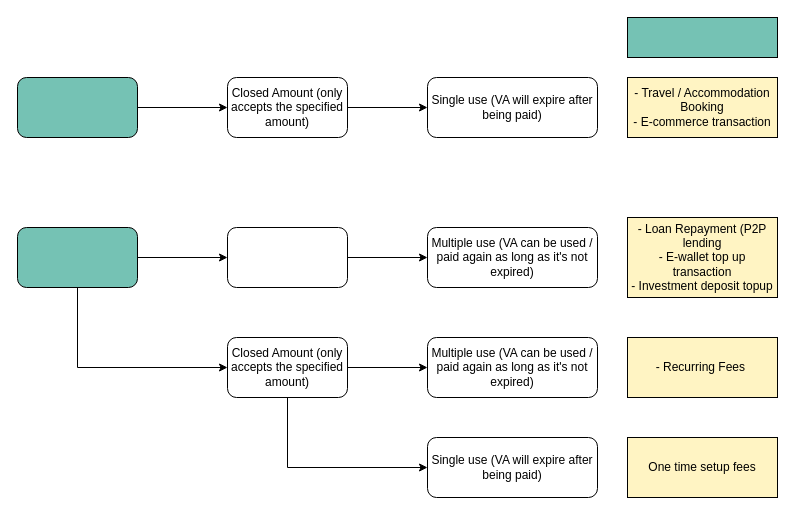
Image size: 795x515. Some labels were removed from this diagram. The centre of each missing label's shape, as x and y in pixels:
"Dynamic VA" goes at (x=77, y=107).
"Open Amount (VA accepts payments of any amount)" goes at (x=287, y=257).
"Static VA" goes at (x=77, y=257).
"Use Case" goes at (x=702, y=37).
